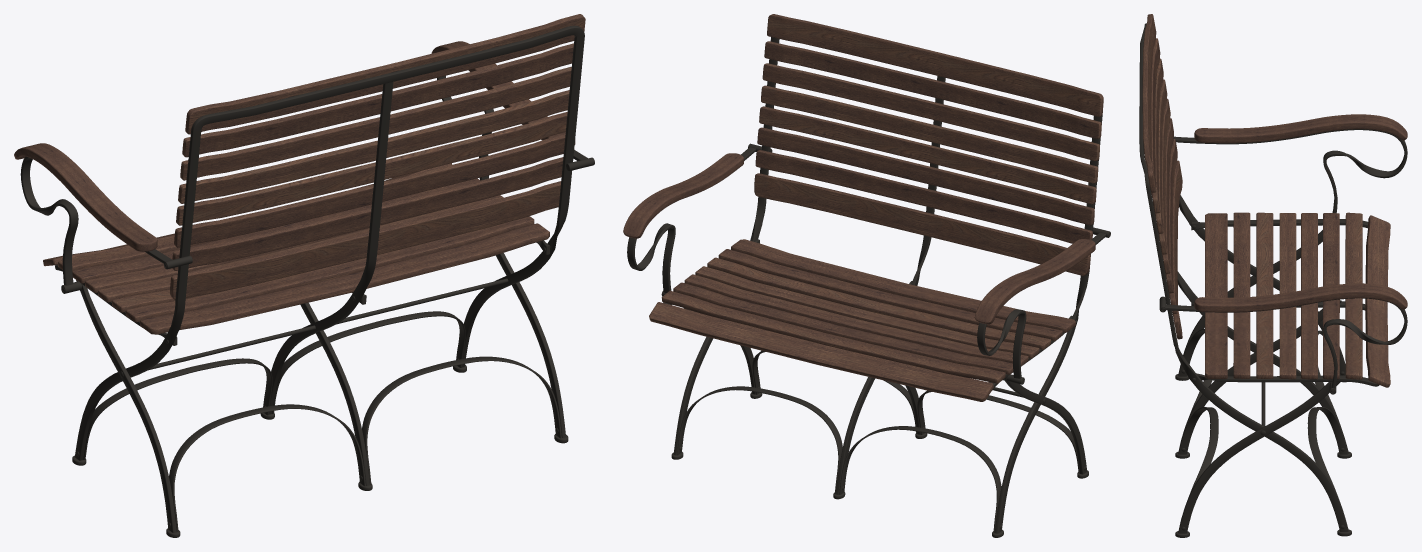
The model's file is gardenbench5_fbx.FBX.
3 views of the same model, side by side, from view 1: azimuth 30°, elevation 25°; view 2: azimuth 150°, elevation 25°; view 3: azimuth 270°, elevation 25° (orthographic). The views are drawn at different scales.
Parts seen in each view (by area): view 1: Box09, Box07, Line21, gardenbench5a, Line04, Line28, Line31, Line32, Line26, Line19, Line30, Line12 (+2 smaller); view 2: Box09, Box07, gardenbench5a, Line21, Line04, Line13, Line26, Line12, Line30, Line28, Line32; view 3: Box07, Box09, gardenbench5a, Line21, Line08, Line26, Line13, Line27, Line31, Line12, Line04, Line29 (+2 smaller).
Part boxes in pixels (<box>): Box09: <box>170,14,585,299</box>; Box07: <box>43,163,549,334</box>; Line21: <box>74,25,584,460</box>; gardenbench5a: <box>14,41,575,251</box>; Line04: <box>268,82,393,414</box>; Line28: <box>76,280,176,532</box>; Line31: <box>362,356,561,484</box>; Line32: <box>169,404,365,531</box>; Line26: <box>20,156,172,285</box>; Line19: <box>148,278,508,370</box>; Line30: <box>83,358,272,459</box>; Line12: <box>272,311,465,413</box>; Box09: <box>754,14,1103,275</box>; Box07: <box>649,239,1075,401</box>; gardenbench5a: <box>623,153,1095,324</box>; Line21: <box>673,37,1102,533</box>; Line04: <box>835,76,945,494</box>; Line13: <box>627,147,755,292</box>; Line26: <box>977,232,1105,378</box>; Line12: <box>677,386,842,493</box>; Line30: <box>839,426,1001,532</box>; Line28: <box>1004,376,1087,474</box>; Line32: <box>917,390,1079,473</box>; Box07: <box>1205,212,1390,387</box>; Box09: <box>1142,14,1182,339</box>; gardenbench5a: <box>1194,114,1407,312</box>; Line21: <box>1139,23,1348,531</box>; Line08: <box>1178,382,1340,533</box>; Line26: <box>1173,129,1407,212</box>; Line13: <box>1166,298,1407,388</box>; Line27: <box>1191,219,1379,386</box>; Line31: <box>1178,407,1218,525</box>; Line12: <box>1307,407,1347,529</box>; Line04: <box>1177,271,1348,453</box>; Line29: <box>1178,300,1341,453</box>.
Size of the model in its own units: 110 by 105 by 70.1.
